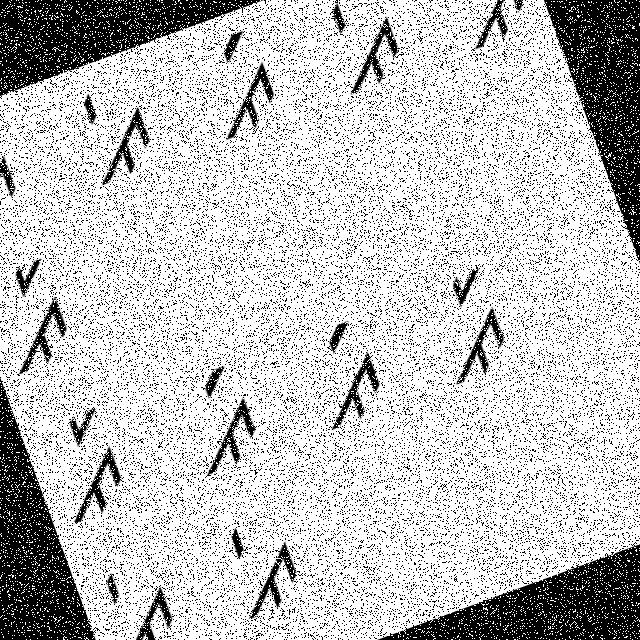kang: (159, 344, 280, 498), (283, 302, 398, 445), (185, 22, 299, 166), (425, 0, 543, 74)
kar: (29, 392, 146, 532), (414, 255, 529, 397), (0, 245, 91, 392), (0, 107, 38, 246)
ke: (57, 64, 183, 204), (298, 0, 418, 115), (210, 500, 318, 627), (88, 545, 202, 639)
